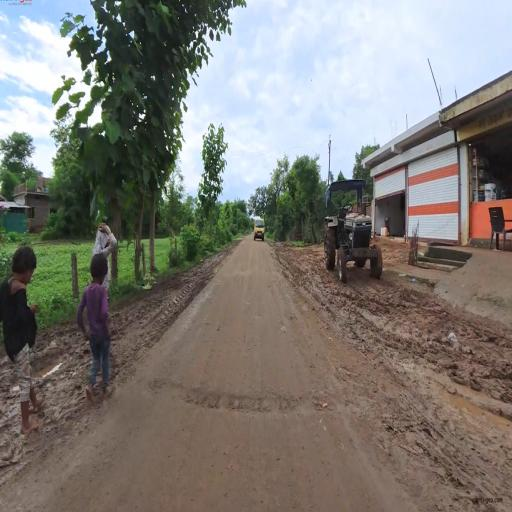longitudinal_crack: (138, 345, 362, 442)
